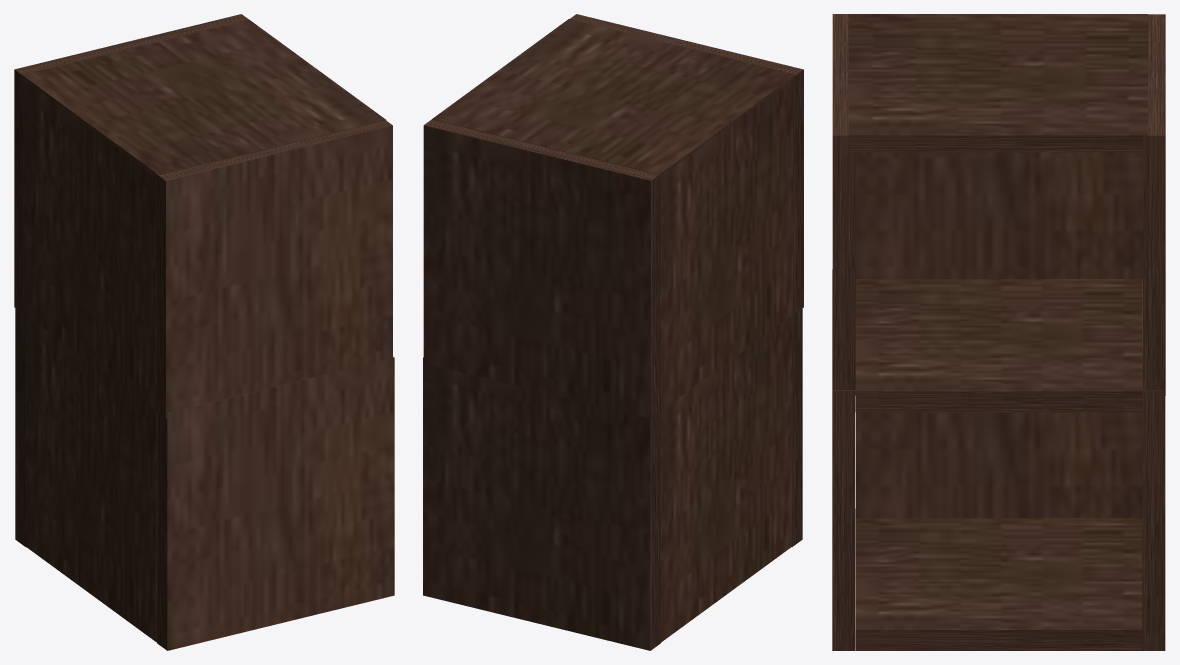
File: lemariBukuKecil_gelap.gltf
3 renders of one model, left to right at view 1: azimuth 30°, elevation 25°; view 2: azimuth 150°, elevation 25°; view 3: azimuth 270°, elevation 25°, orthographic. The views are drawn at different scales.
Visible parts, largest first — view 1: Cube.002, Cube.008, Cube.005, Cube.001, Cube.011, Cube.007, Cube.004; view 2: Cube.007, Cube.004, Cube.005, Cube.001, Cube.011, Cube.002, Cube.008; view 3: Cube.001, Cube.010, Cube.006, Cube.005, Cube.011, Cube.007, Cube.002, Cube.004, Cube.008.
Part boxes in pixels (<box>): Cube.002: <box>155,120,392,418</box>; Cube.008: <box>157,357,394,650</box>; Cube.005: <box>23,79,155,409</box>; Cube.001: <box>22,19,385,175</box>; Cube.011: <box>25,315,156,642</box>; Cube.007: <box>14,14,248,314</box>; Cube.004: <box>15,308,25,546</box>; Cube.007: <box>423,119,660,418</box>; Cube.004: <box>423,357,660,650</box>; Cube.005: <box>659,80,792,411</box>; Cube.001: <box>432,19,795,189</box>; Cube.011: <box>661,315,791,642</box>; Cube.002: <box>570,14,803,314</box>; Cube.008: <box>792,308,802,546</box>; Cube.001: <box>848,14,1147,152</box>; Cube.010: <box>855,279,1142,412</box>; Cube.006: <box>855,509,1142,650</box>; Cube.005: <box>855,152,1142,278</box>; Cube.011: <box>855,412,1142,518</box>; Cube.007: <box>1143,14,1165,395</box>; Cube.002: <box>832,14,855,395</box>; Cube.004: <box>1142,278,1165,650</box>; Cube.008: <box>832,269,854,650</box>.
Bounding box in the file's own units: 0.8855 × 1.74 × 1.02.
Materials: 9 (9 with a texture image).
